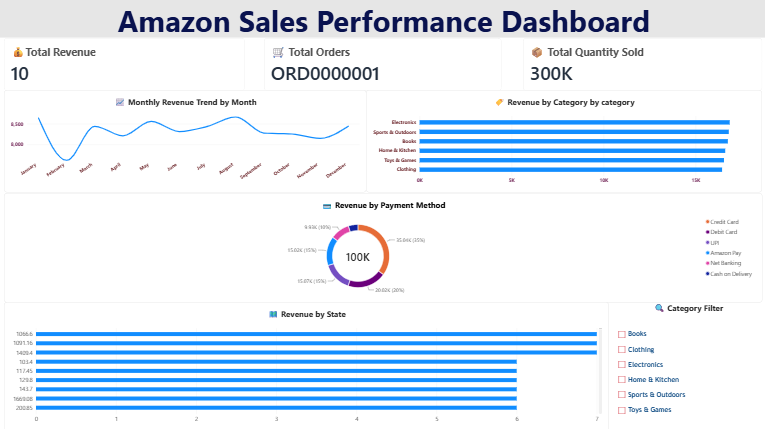

Layout of this report page (visuals, bound fields, positions):
{"tool":"powerbi","page":{"name":"Page 1","canvas":[1920,1080],"ordinal":0},"visuals":[{"type":"cardVisual","title":"Total Revenue","fields":{"Data":["Min(Amazon.Revenue)"]},"box":[10,94,602,132],"z":0},{"type":"cardVisual","fields":{"Data":["Min(Amazon.OrderID)"]},"box":[660,94,594,132],"z":1000},{"type":"cardVisual","fields":{"Data":["Sum(Amazon.Quantity)"]},"box":[1308,94,598,132],"z":2000},{"type":"lineChart","fields":{"Category":["Amazon.OrderDate.Variation.Date Hierarchy.Month"],"Y":["CountNonNull(Amazon.Revenue)"]},"box":[10,226,906,256],"z":3000},{"type":"clusteredBarChart","fields":{"Category":["Amazon.Category"],"Y":["CountNonNull(Amazon.Revenue)"]},"box":[916,226,990,256],"z":4000},{"type":"donutChart","title":"💳 Revenue by Payment Method","fields":{"Category":["Amazon.PaymentMethod"],"Y":["CountNonNull(Amazon.Revenue)"]},"box":[10,482,1896,274],"z":5000},{"type":"clusteredBarChart","title":"🗺️ Revenue by State ","fields":{"Category":["Amazon.Revenue"],"Y":["CountNonNull(Amazon.State)"]},"box":[10,756,1512,324],"z":6000},{"type":"slicer","title":"🔍 Category Filter","fields":{"Values":["Amazon.Category"]},"box":[1538,756,368,320],"z":7000},{"type":"textbox","title":"Amazon Sales Performance Dashboard","box":[0,0,1920,94],"z":8001}]}

Visuals, with their boxes in screenshot pixels (x1, y1, x2, y2), scaled from the page's 1920x1080 canvas onto the 765x429 screenshot:
"Total Revenue" cardVisual: bbox=(4, 37, 244, 90)
cardVisual - Min(Amazon.OrderID): bbox=(263, 37, 500, 90)
cardVisual - Sum(Amazon.Quantity): bbox=(521, 37, 759, 90)
lineChart - Amazon.OrderDate.Variation.Date Hierarchy.Month x CountNonNull(Amazon.Revenue): bbox=(4, 90, 365, 191)
clusteredBarChart - Amazon.Category x CountNonNull(Amazon.Revenue): bbox=(365, 90, 759, 191)
"💳 Revenue by Payment Method" donutChart: bbox=(4, 191, 759, 300)
"🗺️ Revenue by State " clusteredBarChart: bbox=(4, 300, 606, 428)
"🔍 Category Filter" slicer: bbox=(613, 300, 759, 427)
"Amazon Sales Performance Dashboard" textbox: bbox=(0, 0, 764, 37)
